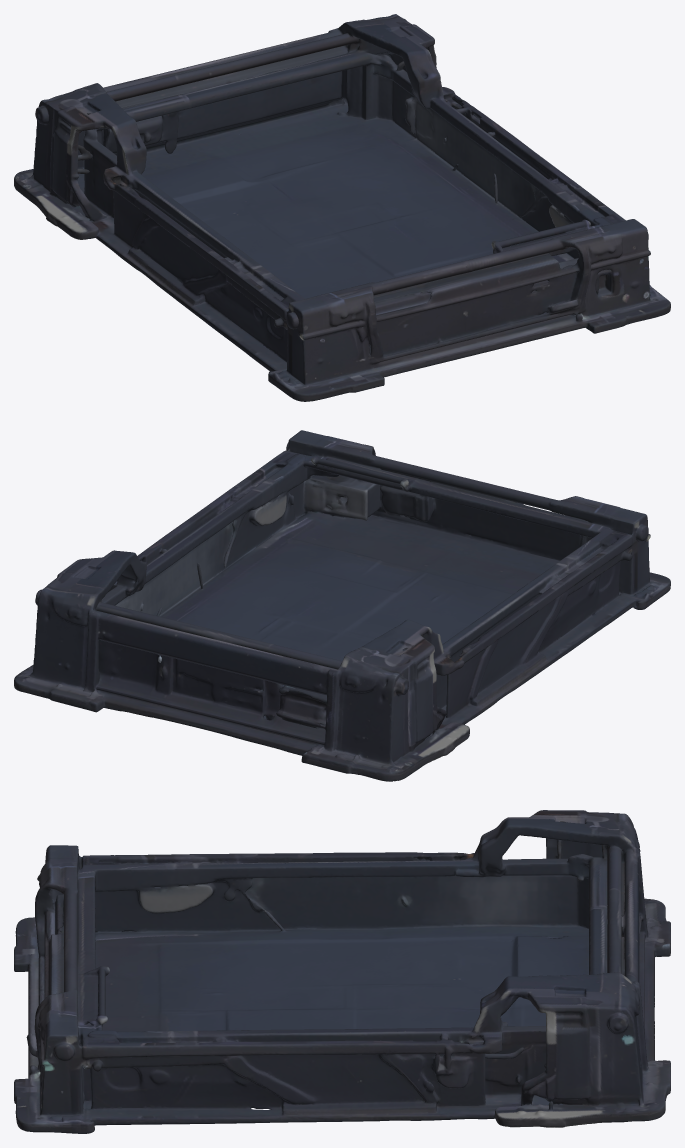
The model's file is tripo_convert_555c461c-ddf3-4c99-bf95-f4a12b0a54be.fbx.
3 renders of one model, top to bottom at view 1: azimuth 30°, elevation 25°; view 2: azimuth 150°, elevation 25°; view 3: azimuth 270°, elevation 25°, orthographic. The views are drawn at different scales.
Visible parts, largest first — view 1: tripo_node_555c461c; view 2: tripo_node_555c461c; view 3: tripo_node_555c461c.
Part boxes in pixels (bbox=[...]): tripo_node_555c461c: bbox=[14, 14, 670, 401]; tripo_node_555c461c: bbox=[14, 430, 670, 781]; tripo_node_555c461c: bbox=[14, 810, 670, 1133].
Bounding box in the file's own units: 0.7954 × 0.2181 × 1.
1 material, 1 textured.
